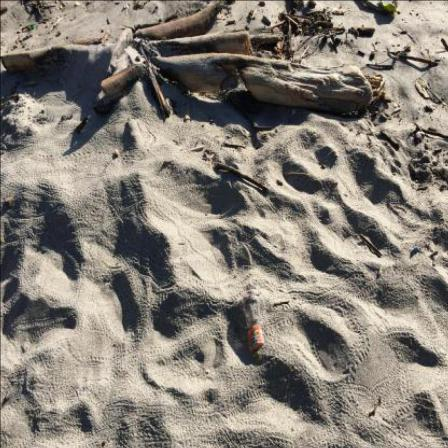Bottle: (243, 290, 265, 363)
